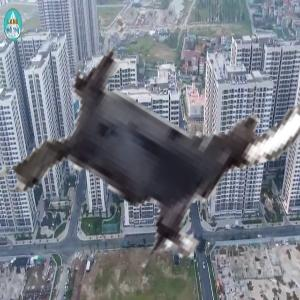drone: (6, 1, 300, 296)
